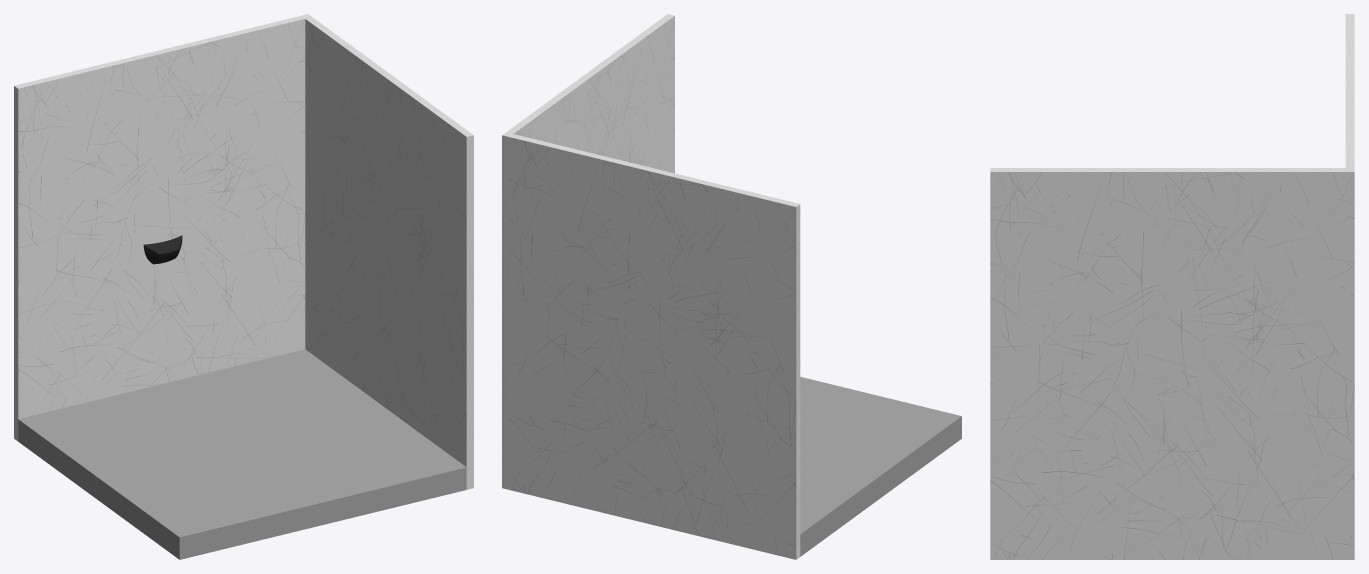
The picture shows the model from 3 angles, left to right: view 1: azimuth 30°, elevation 25°; view 2: azimuth 150°, elevation 25°; view 3: azimuth 270°, elevation 25°; orthographic projection. The views are drawn at different scales.
Parts seen in each view (by area): view 1: cube1, cube2, cube3, e_m_4objcleanermaterialmergergles; view 2: cube1, cube2, cube3; view 3: cube2, cube1.
Boxes of the visible parts, <box> form: cube1: <box>14,16,305,441</box>; cube2: <box>301,14,473,489</box>; cube3: <box>18,349,466,559</box>; e_m_4objcleanermaterialmergergles: <box>143,235,182,264</box>; cube1: <box>509,134,800,559</box>; cube2: <box>502,14,674,489</box>; cube3: <box>800,377,961,556</box>; cube2: <box>990,168,1354,559</box>; cube1: <box>1345,14,1354,167</box>.
Size of the model in its own units: 4.1 by 4.7 by 4.
Materials: 4 (3 with a texture image).
